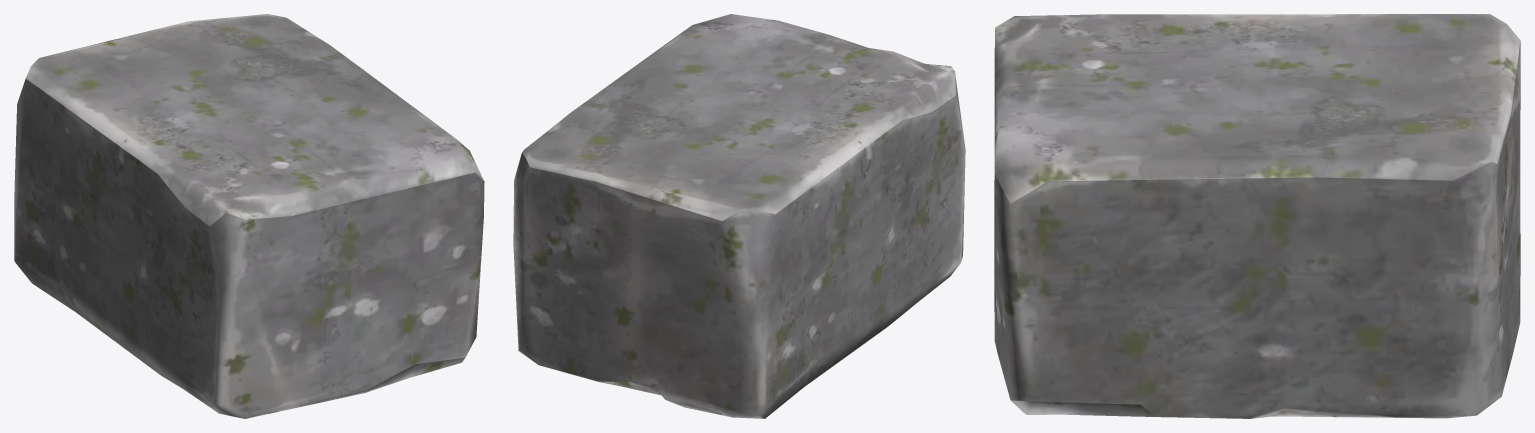
3 renders of one model, left to right at view 1: azimuth 30°, elevation 25°; view 2: azimuth 150°, elevation 25°; view 3: azimuth 270°, elevation 25°, orthographic. The views are drawn at different scales.
Parts seen in each view (by area): view 1: SM_River_Bridge_Unique_Bricks_01_LOD0; view 2: SM_River_Bridge_Unique_Bricks_01_LOD0; view 3: SM_River_Bridge_Unique_Bricks_01_LOD0.
Boxes of the visible parts, <box> form: SM_River_Bridge_Unique_Bricks_01_LOD0: <box>14,14,484,418</box>; SM_River_Bridge_Unique_Bricks_01_LOD0: <box>513,14,965,418</box>; SM_River_Bridge_Unique_Bricks_01_LOD0: <box>994,14,1520,418</box>.
Bounding box in the file's own units: 0.6844 × 0.5275 × 0.9671.
1 material, 1 textured.
